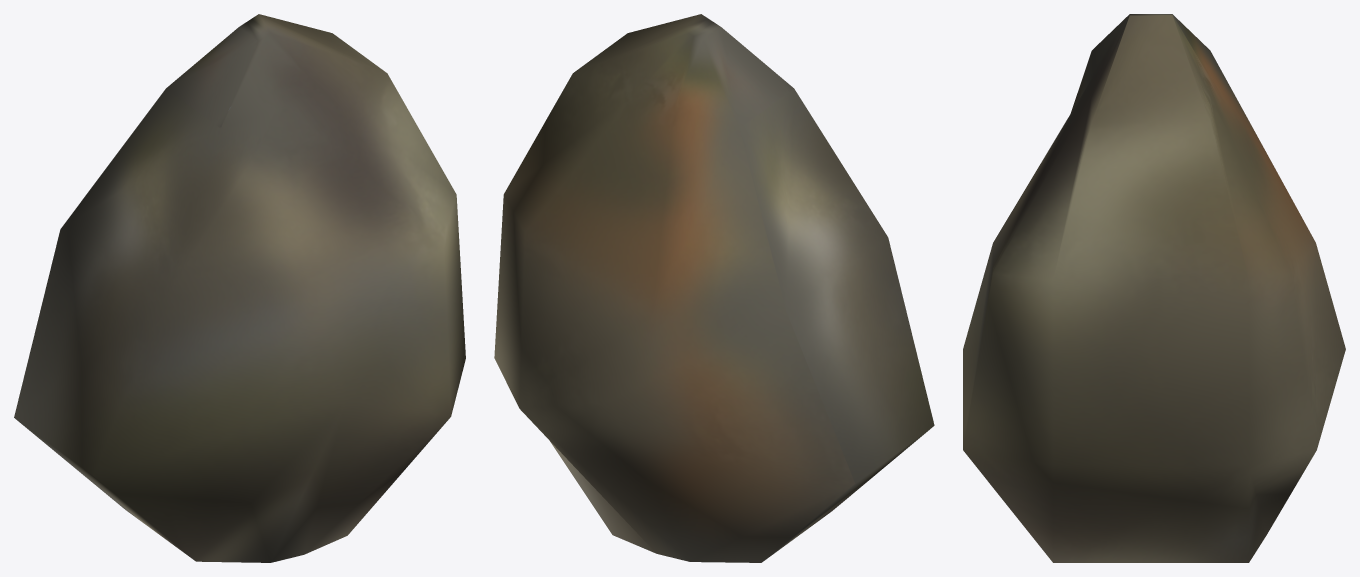
File: Rock04.fbx
The picture shows the model from 3 angles, left to right: view 1: azimuth 30°, elevation 25°; view 2: azimuth 150°, elevation 25°; view 3: azimuth 270°, elevation 25°; orthographic projection. The views are drawn at different scales.
Visible parts, largest first — view 1: Rock04; view 2: Rock04; view 3: Rock04.
Boxes of the visible parts, box(x1,y1,x2,y2) form: Rock04: box(14, 14, 465, 562); Rock04: box(494, 14, 934, 562); Rock04: box(963, 14, 1345, 562).
Bounding box in the file's own units: 1.19 × 1.54 × 1.01.
1 material, 1 textured.
